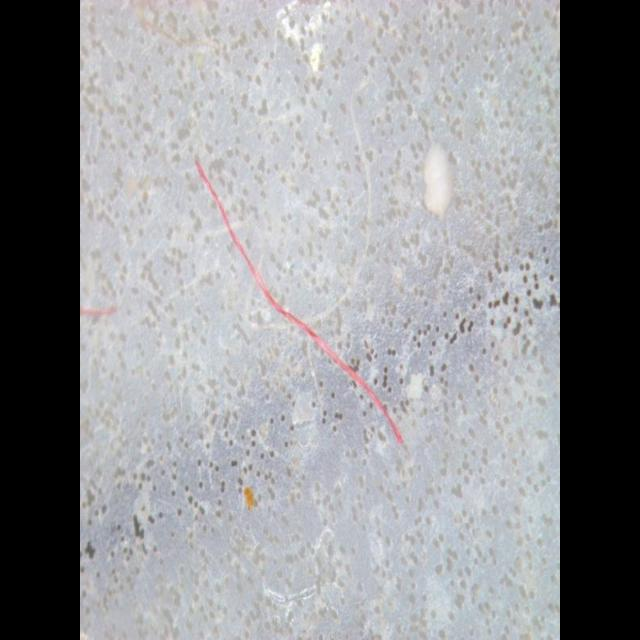Fibre: (193, 152, 404, 446)
